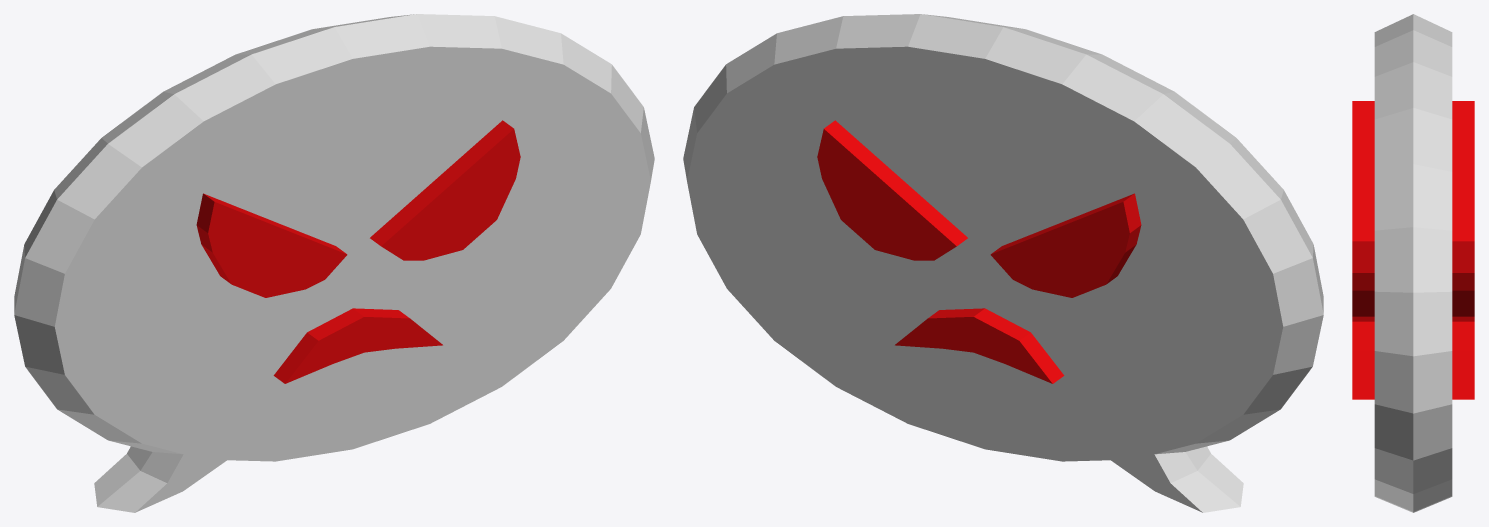
The model's file is Bubble.fbx.
The picture shows the model from 3 angles, left to right: view 1: azimuth 30°, elevation 25°; view 2: azimuth 150°, elevation 25°; view 3: azimuth 270°, elevation 25°; orthographic projection. The views are drawn at different scales.
Parts seen in each view (by area): view 1: bubble; view 2: bubble; view 3: bubble.
Boxes of the visible parts, box(x1,y1,x2,y2) form: bubble: box(14, 14, 654, 512); bubble: box(683, 14, 1323, 512); bubble: box(1352, 14, 1474, 512).
Bounding box in the file's own units: 67.39 × 42.43 × 11.59.
